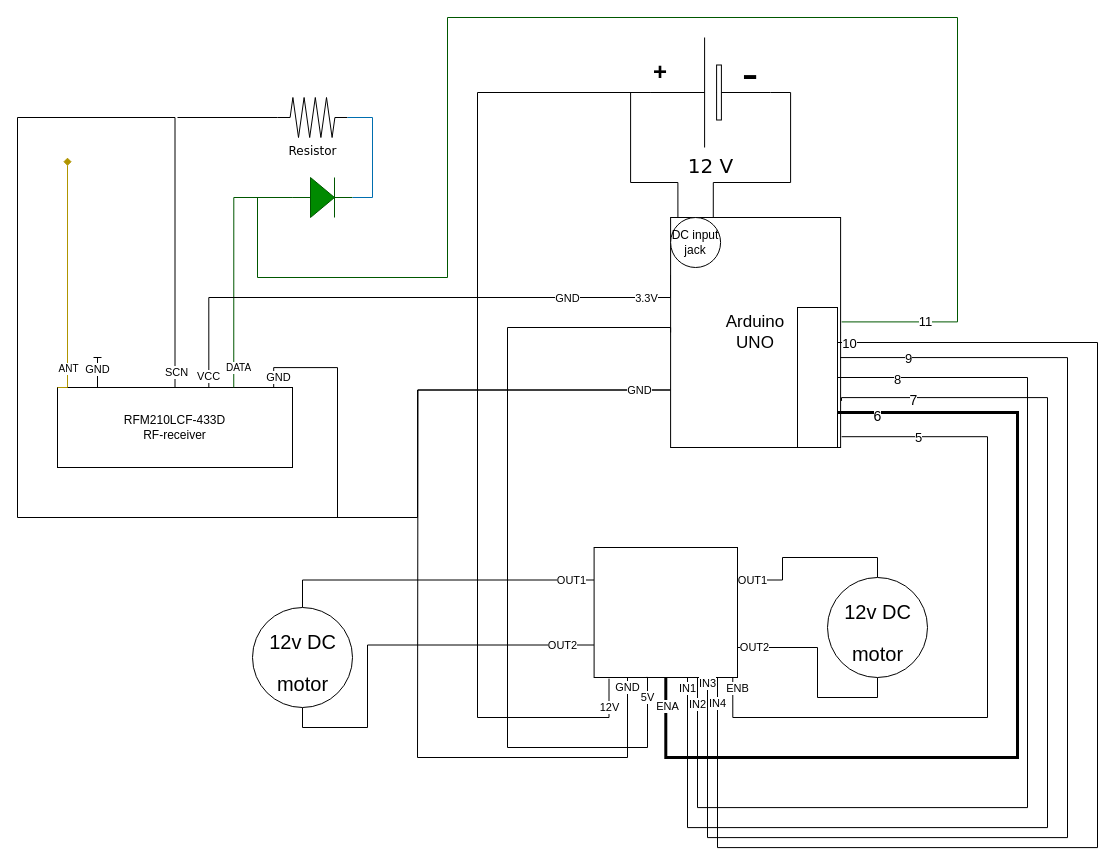
The diagram is 1116 pixels wide and 867 high, and some of its shapes have lost their labels. Here are the shapes that lost their labels. From the top down, the centre of each, then its label:
At pixel 322 197: "LED".
At pixel 817 377: "Digital PWM~".
At pixel 665 612: "L298N Motor Driver".
